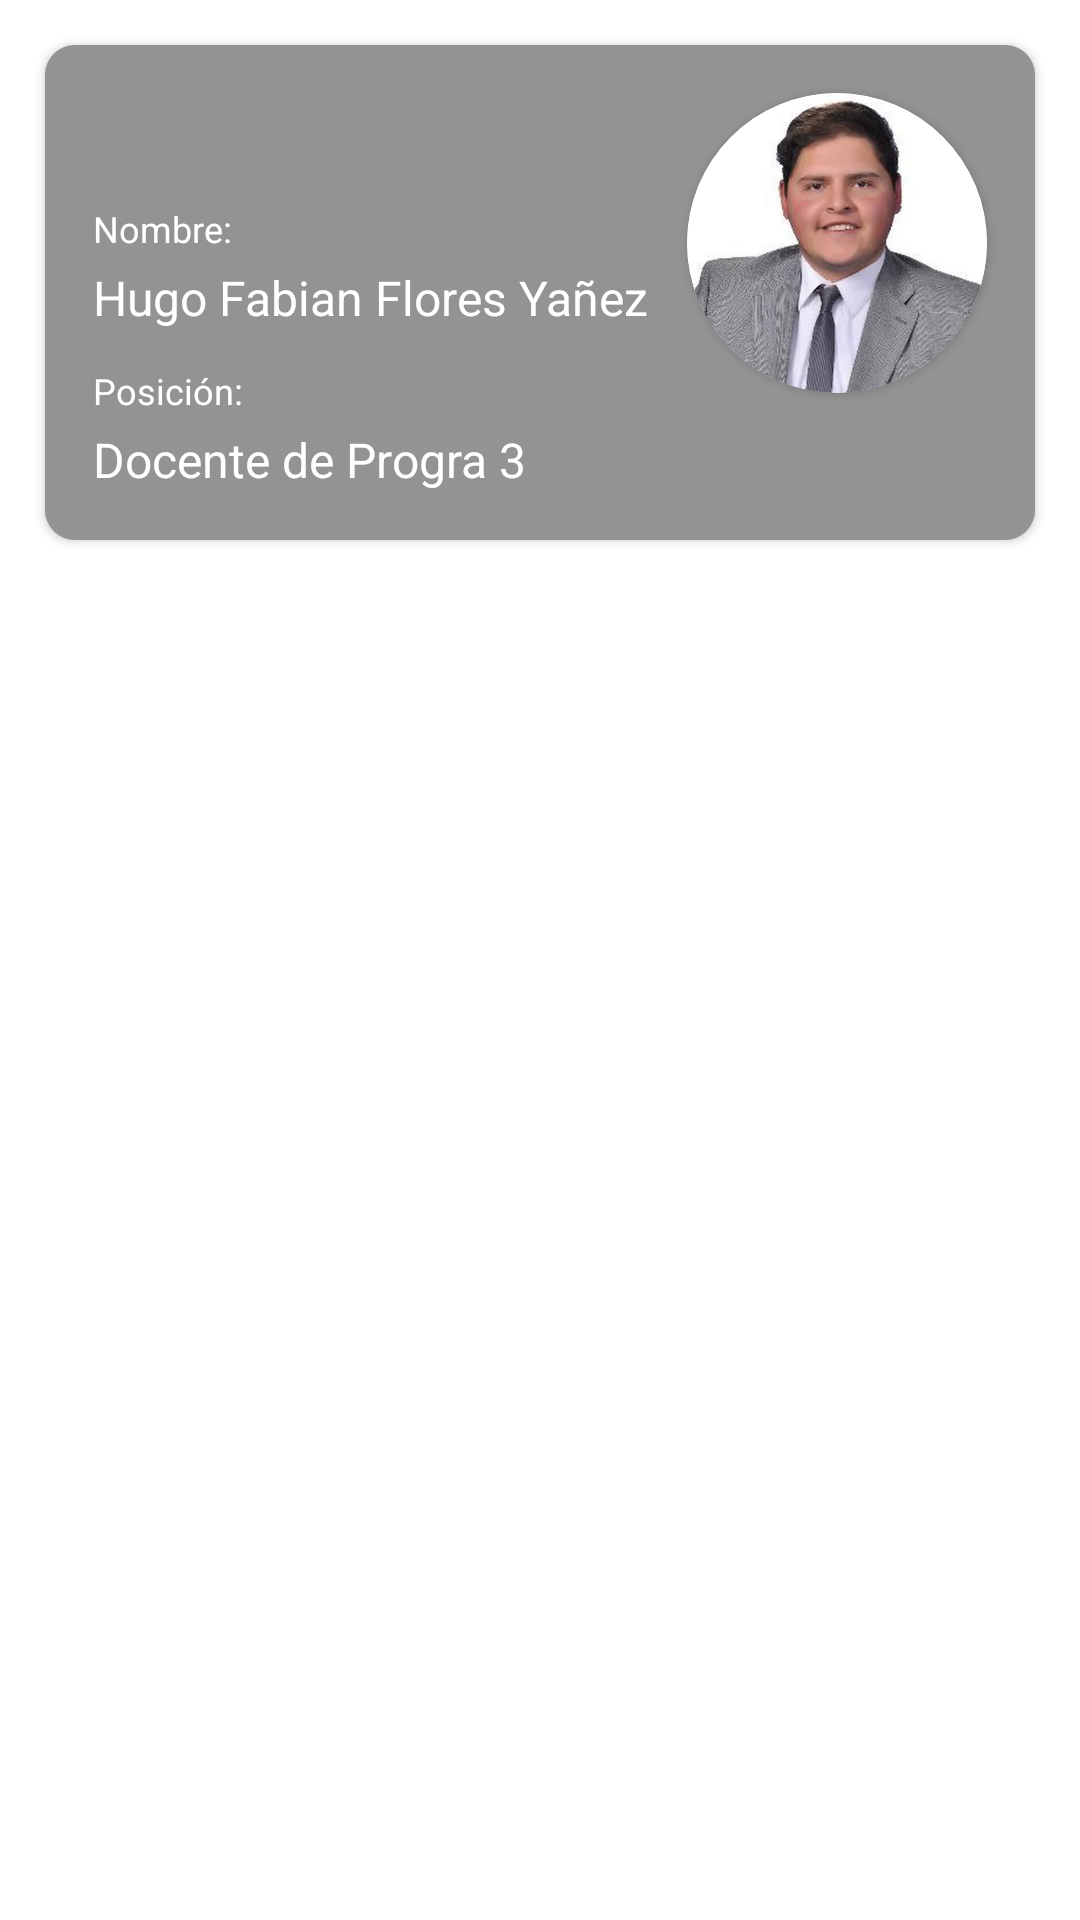

Point at icon controls on the screen. Image size 1080 × 1920, points as [x,y].
profile: [837,243]
